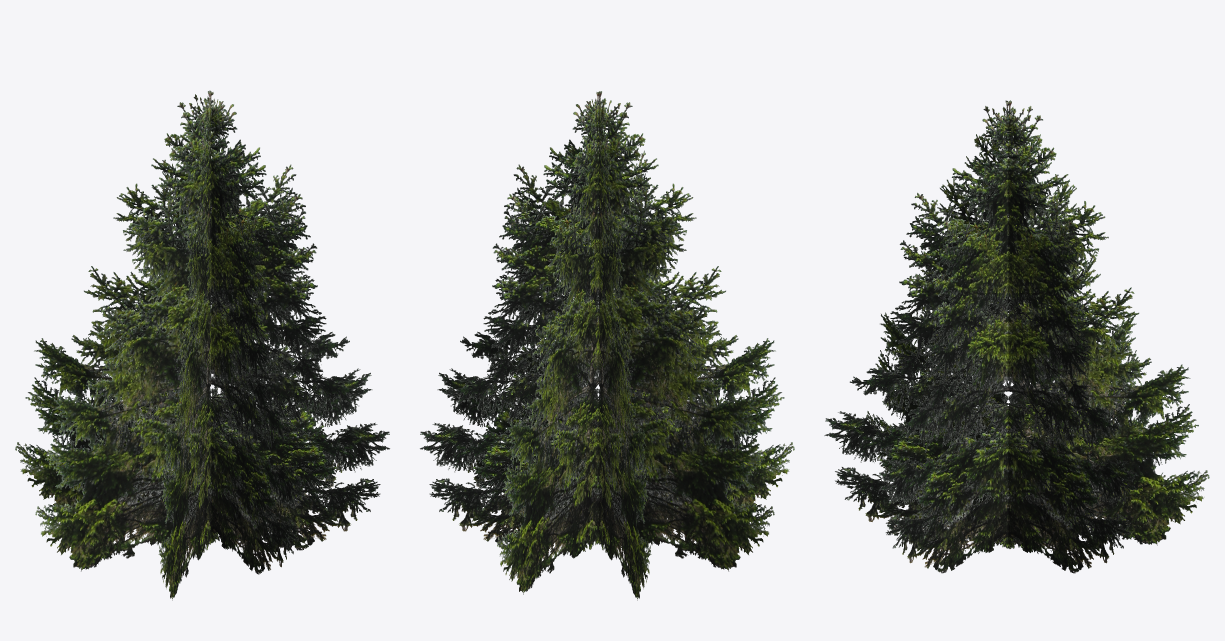
Rendered from tree1.fbx.
The picture shows the model from 3 angles, left to right: view 1: azimuth 30°, elevation 25°; view 2: azimuth 150°, elevation 25°; view 3: azimuth 270°, elevation 25°; orthographic projection.
Parts seen in each view (by area): view 1: Component_1_4, Component_1_1, Component_1_3, Component_1_2; view 2: Component_1_4, Component_1_2, Component_1_3, Component_1_1; view 3: Component_1_3, Component_1_2, Component_1_1.
Boxes of the visible parts, x1=… form: Component_1_4: x1=35, y1=92, x2=372, y2=571; Component_1_1: x1=15, y1=91, x2=389, y2=550; Component_1_3: x1=110, y1=90, x2=304, y2=574; Component_1_2: x1=158, y1=92, x2=256, y2=600; Component_1_4: x1=437, y1=92, x2=774, y2=571; Component_1_2: x1=420, y1=91, x2=794, y2=549; Component_1_3: x1=497, y1=92, x2=677, y2=594; Component_1_1: x1=552, y1=92, x2=651, y2=600; Component_1_3: x1=824, y1=101, x2=1209, y2=548; Component_1_2: x1=866, y1=100, x2=1137, y2=573; Component_1_1: x1=879, y1=100, x2=1150, y2=573.
Bounding box in the file's own units: 5.95 × 7.64 × 5.95.
